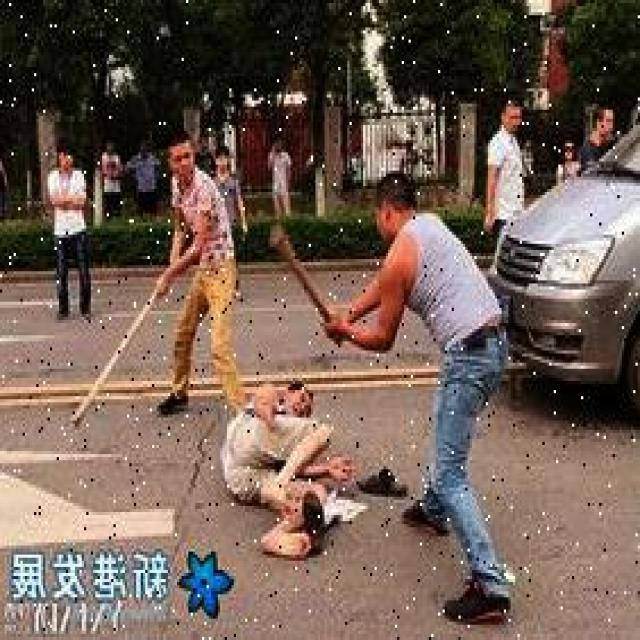fall: (222, 375, 352, 558)
